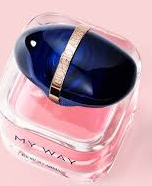armani_my_way_floral: (1, 3, 144, 185)
